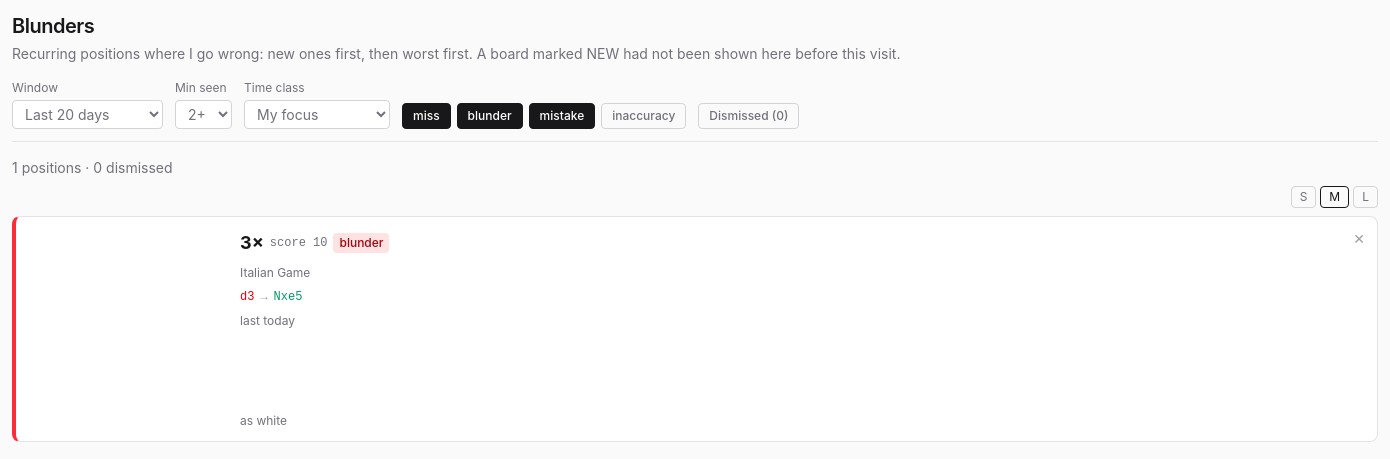
Test: Blunders page › dismisses from the card without opening it, and restores from the Dismissed view
The image size is (1390, 459).
Click the button named "Dismiss": (1359, 239) [1353,229,1365,249]
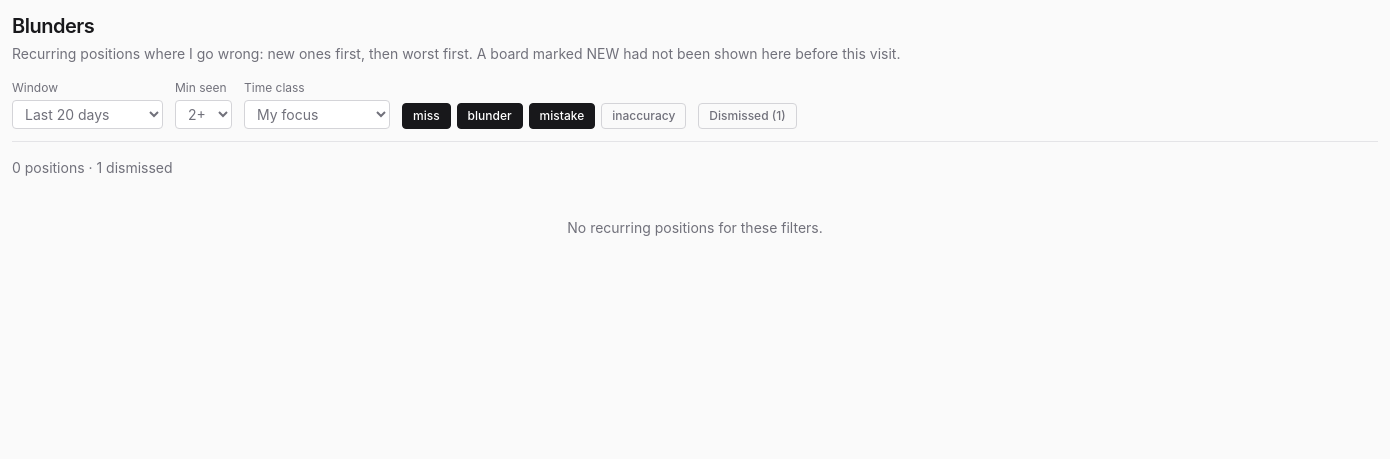
Expected: the text "No recurring positions for these filters." is shown, [567,219,823,236]
Click the button "Dismissed (1)": (747, 116) [698,103,797,129]
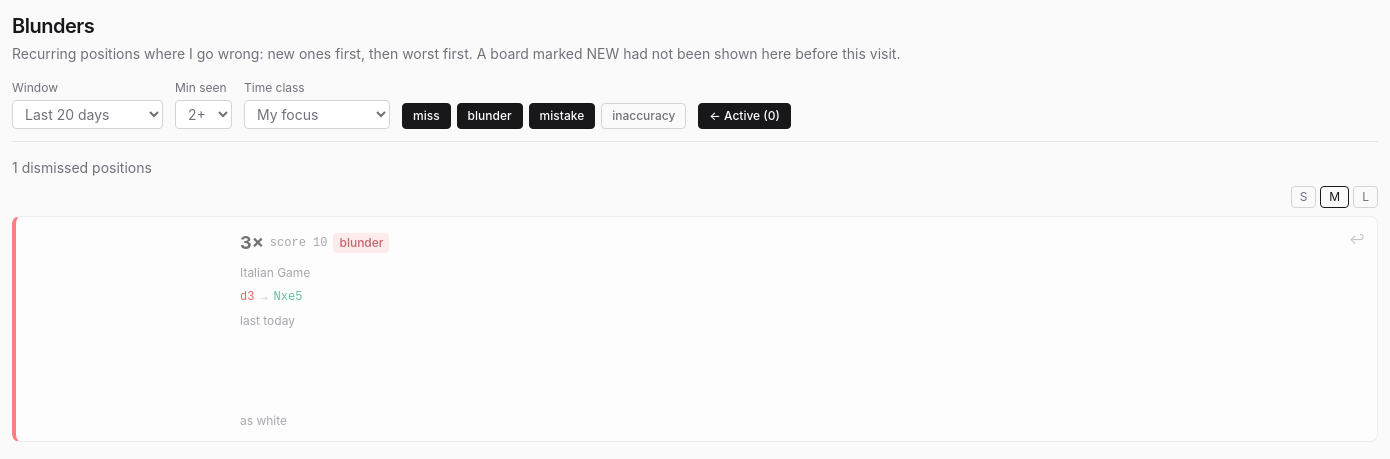
Click the button named "Restore": (1357, 239) [1349,229,1365,249]
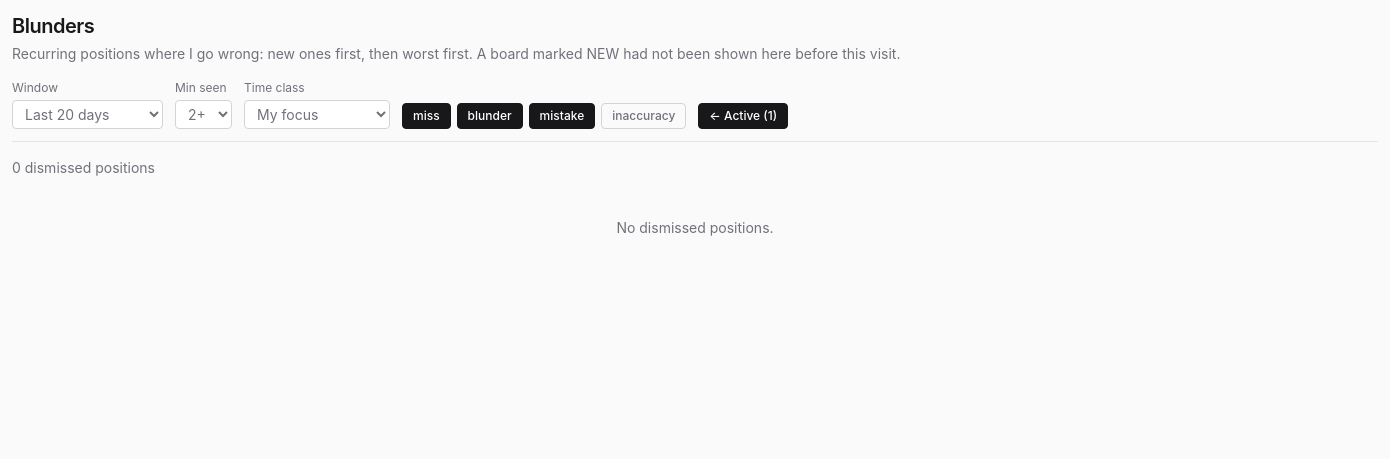
Expected: the text "No dismissed positions." is shown, [616,219,774,236]
